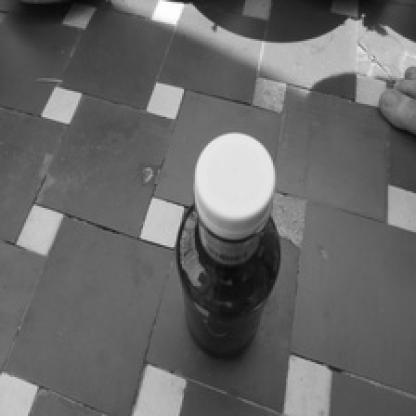plastic_bottles: (166, 128, 284, 364)
